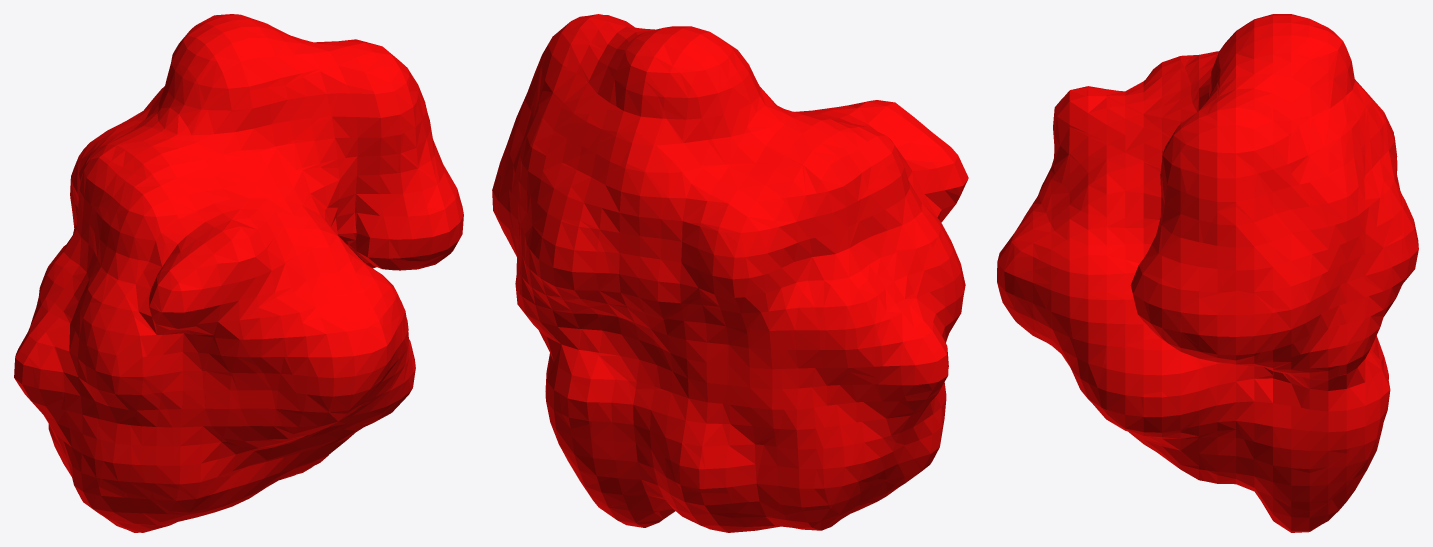
File: tdcB_coarse.dae
3 renders of one model, left to right at view 1: azimuth 30°, elevation 25°; view 2: azimuth 150°, elevation 25°; view 3: azimuth 270°, elevation 25°, orthographic. The views are drawn at different scales.
Parts seen in each view (by area): view 1: tdcB; view 2: tdcB; view 3: tdcB.
Part boxes in pixels (<box>): tdcB: <box>14,14,463,532</box>; tdcB: <box>492,14,968,532</box>; tdcB: <box>997,14,1418,532</box>.
Size of the model in its own units: 57.63 by 61.35 by 47.7.
